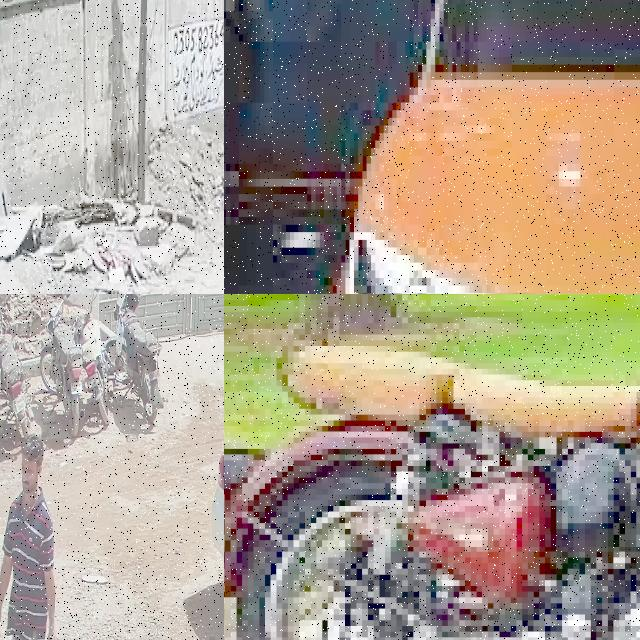bike: (224, 294, 640, 640), (105, 294, 163, 422), (39, 294, 84, 436), (72, 294, 113, 424), (0, 294, 34, 438)
car: (268, 0, 640, 294)
